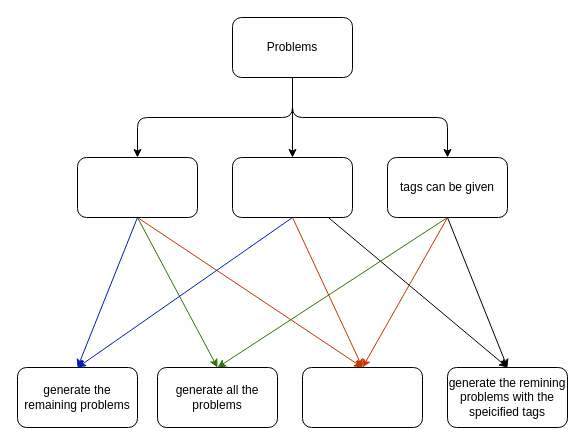
Image size: 585x445. Some labels were removed from this diagram. The shapes that lost their labels are listed below. From the top down, each one's box as (x1, y1, x2, y2) in pixels, then its label:
(76, 156, 198, 218): number of problems
(232, 156, 352, 218): problems can be given
(302, 366, 422, 428): generate the reamingin problems with the specified tags
